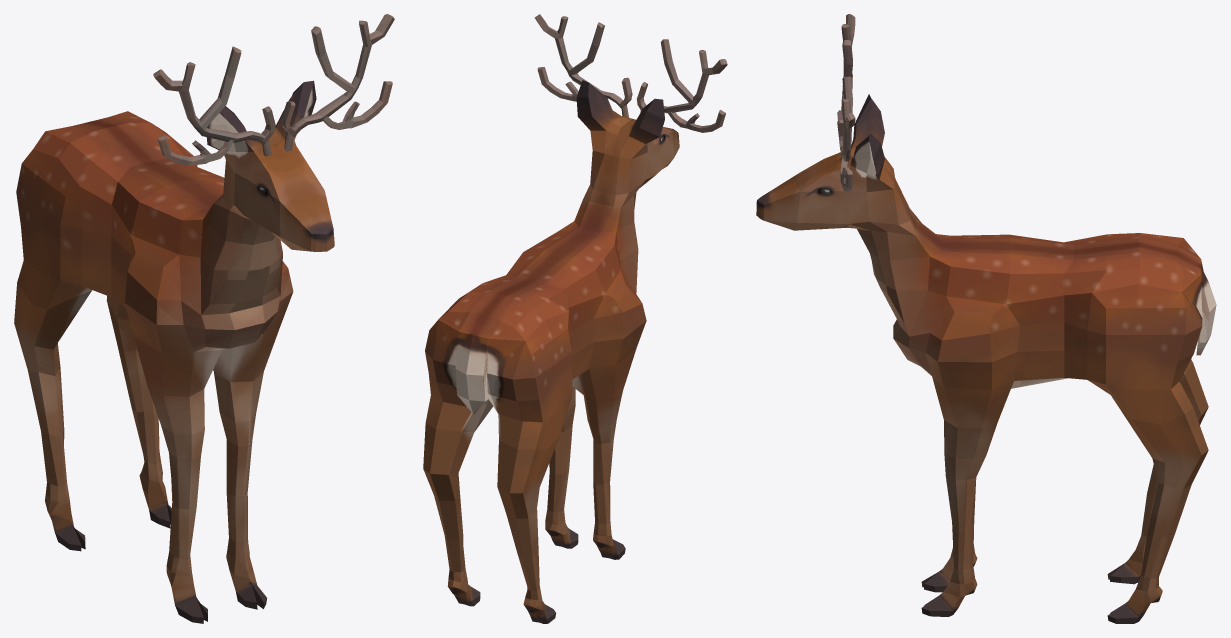
Rendered from finaldeer4_antlers.fbx.
3 renders of one model, left to right at view 1: azimuth 30°, elevation 25°; view 2: azimuth 150°, elevation 25°; view 3: azimuth 270°, elevation 25°, orthographic. The views are drawn at different scales.
Visible parts, largest first — view 1: Cube; view 2: Cube; view 3: Cube.
Part boxes in pixels (x1,y1,x2,y2): Cube: [14, 14, 394, 623]; Cube: [423, 14, 727, 623]; Cube: [756, 14, 1216, 623].
Size of the model in its own units: 600 by 1457 by 1120.
1 material, 1 textured.
